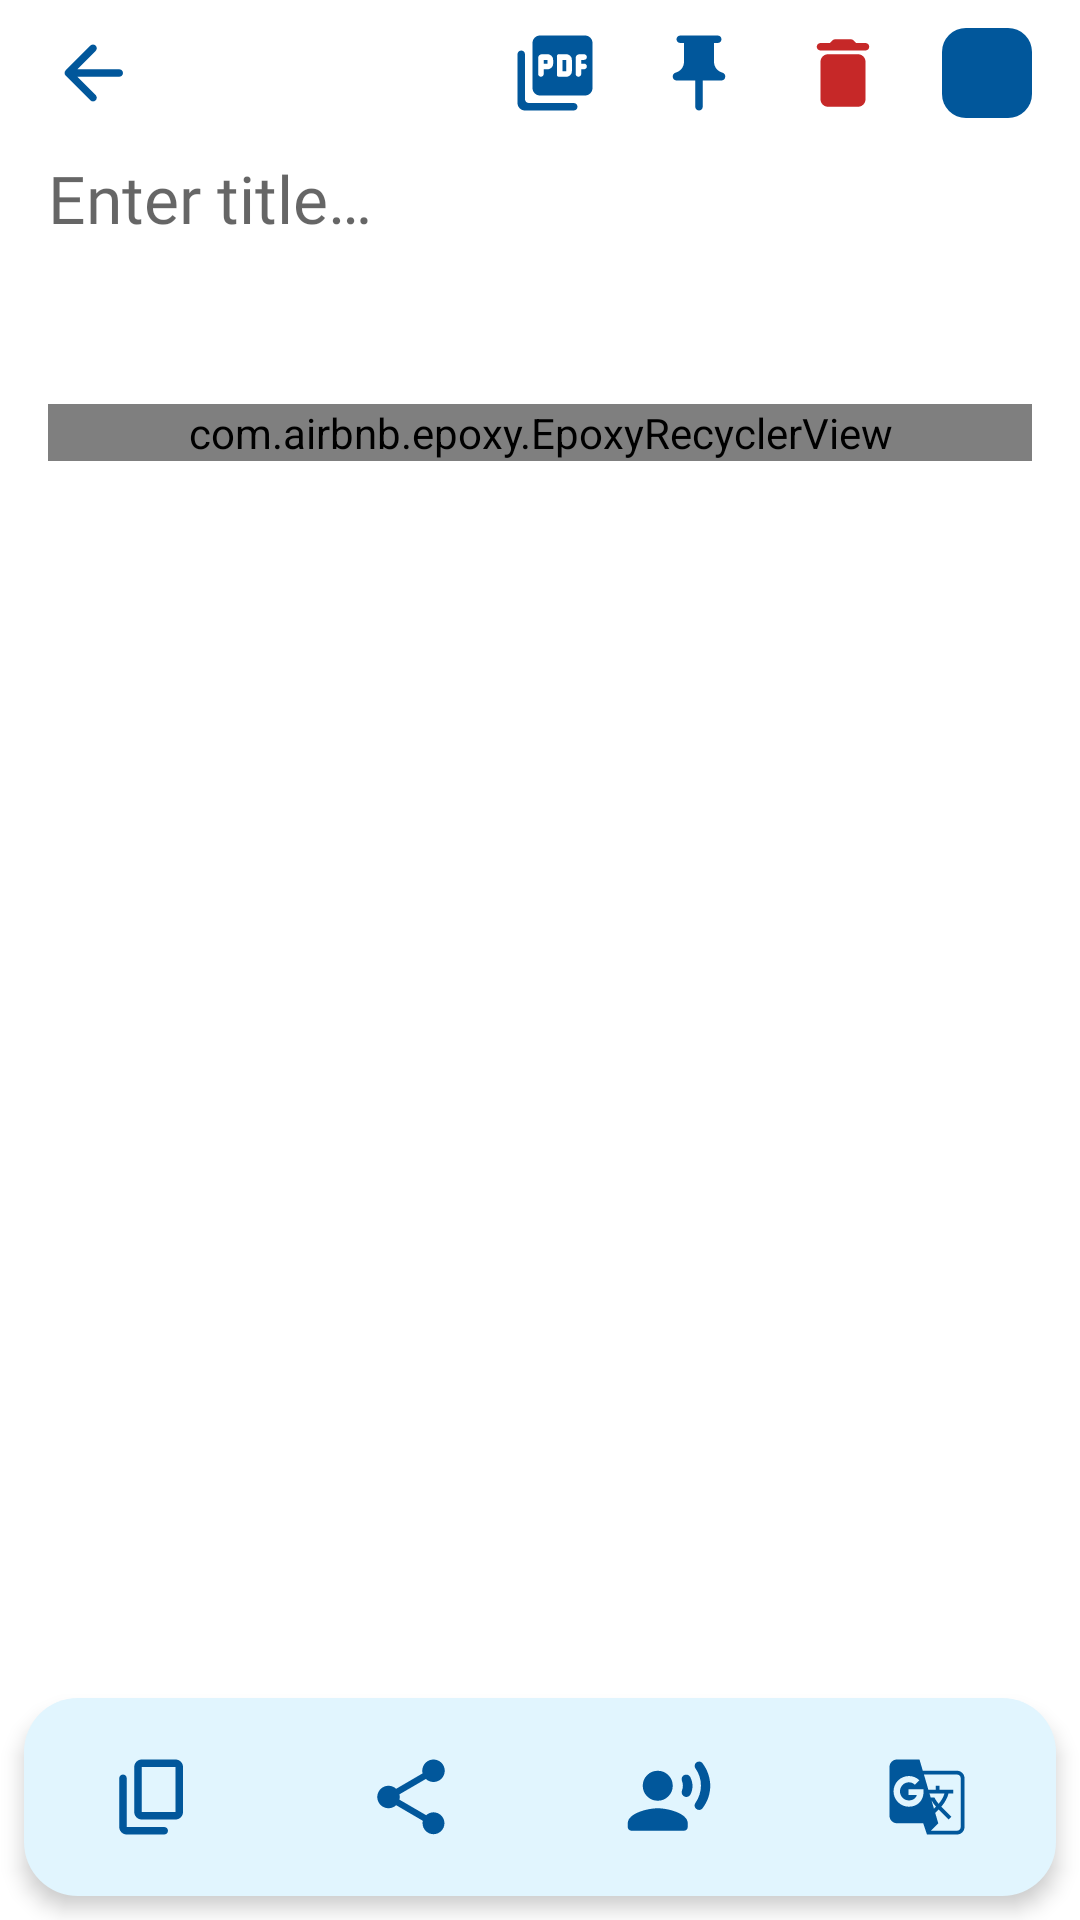

Icon click points for this 1080x1920 phone screenshot, format (x=x, y=y):
arrow back: (x=93, y=73)
delete: (x=843, y=73)
picture as pdf: (x=555, y=73)
push pin: (x=699, y=73)
record voice over: (x=669, y=1796)
share: (x=411, y=1797)
